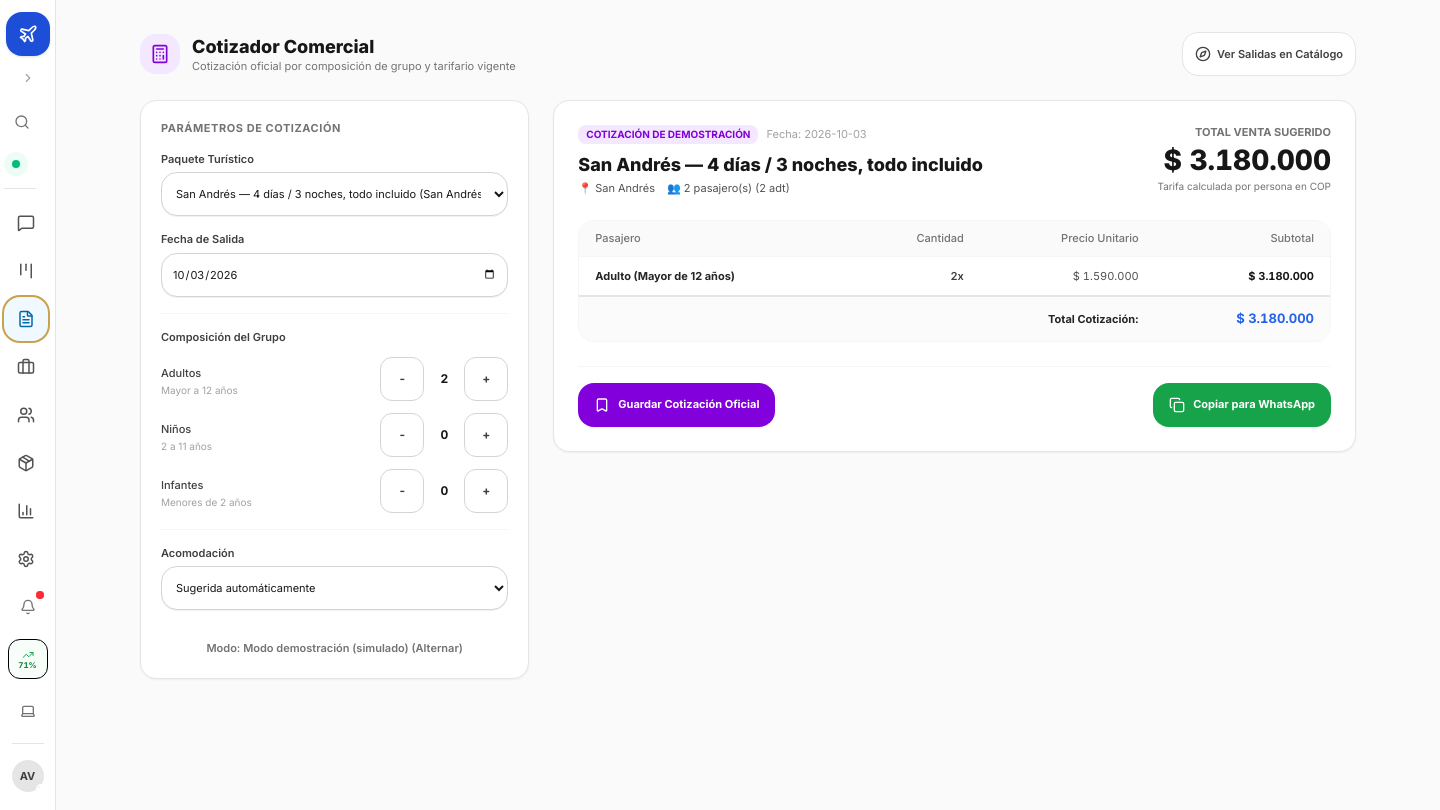
Test case: CotizadorPage — Excursiones de un Día y Estados de UI (Bloque 2) › 5. Caso canónico T-011: 2 adultos + 2 niños en diciembre cotiza $9.100.000 COP con 2 habitaciones dobles
The image size is (1440, 810).
Note: Seleccionar San Andrés y fecha de temporada alta diciembre
Select "San Andrés — 4 días / 3 noches, todo incluido (San Andrés)" in the dropdown labelled "Paquete Turístico" at (335, 194), box [161,172,508,216]
Type "2027-12-24" into the date field labelled "Fecha de Salida" at (335, 275), box [161,253,508,297]
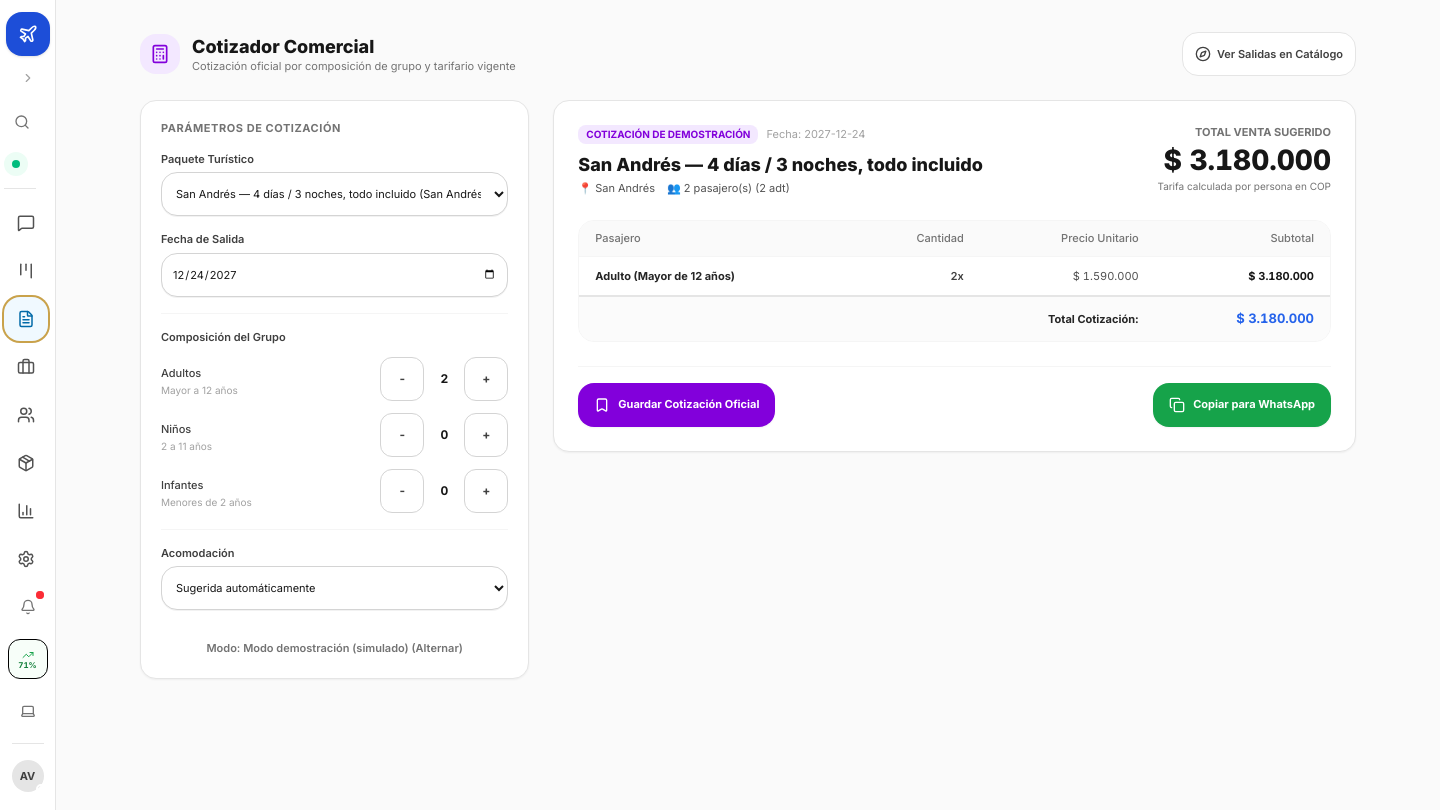
Select "Doble (2 personas)" in the dropdown labelled "Acomodación" at (335, 588), box [161,566,508,610]
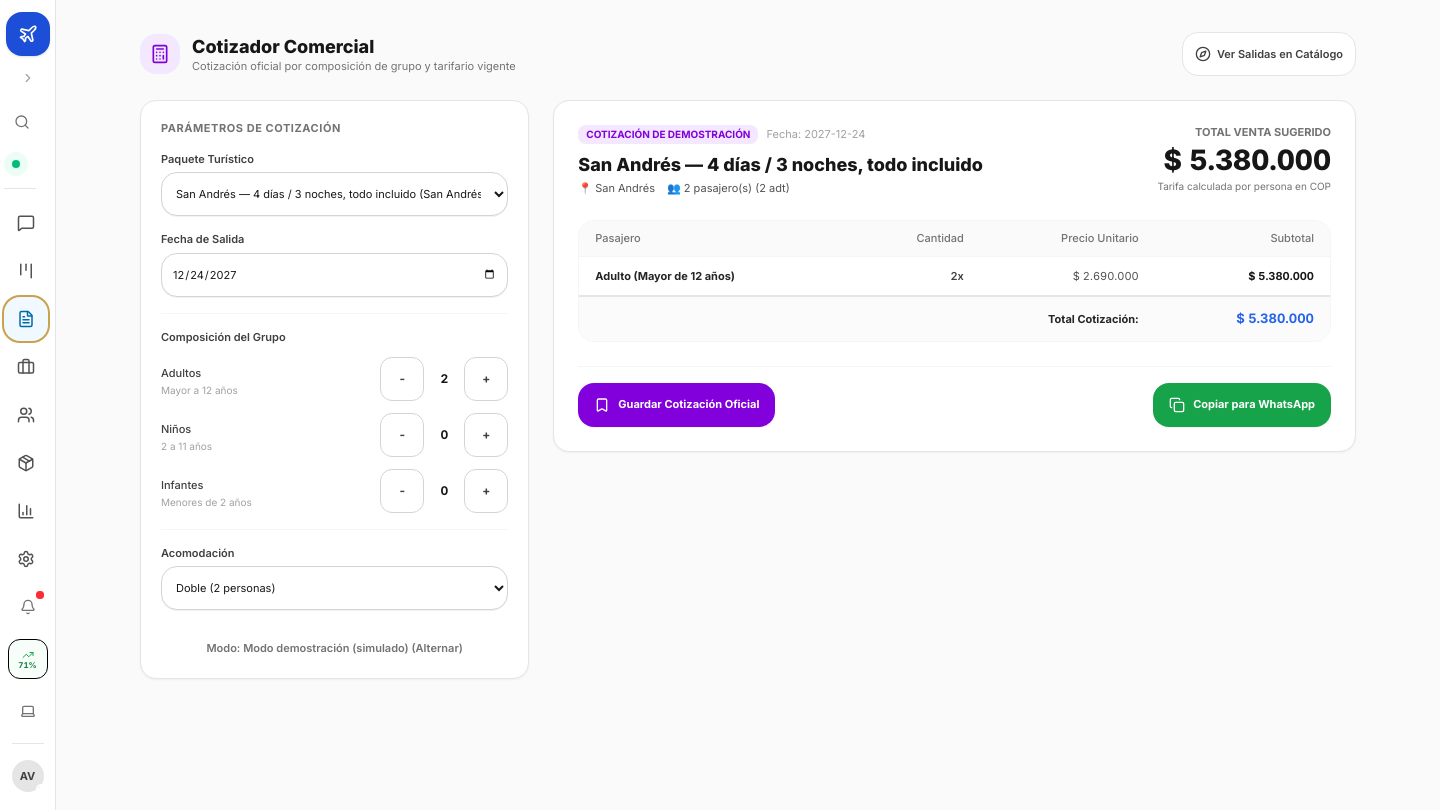
Note: Incrementar a 2 niños (actualmente 0)
Click the button "+" in the row of "2 a 11 años" at (486, 435), box [464,413,508,457]
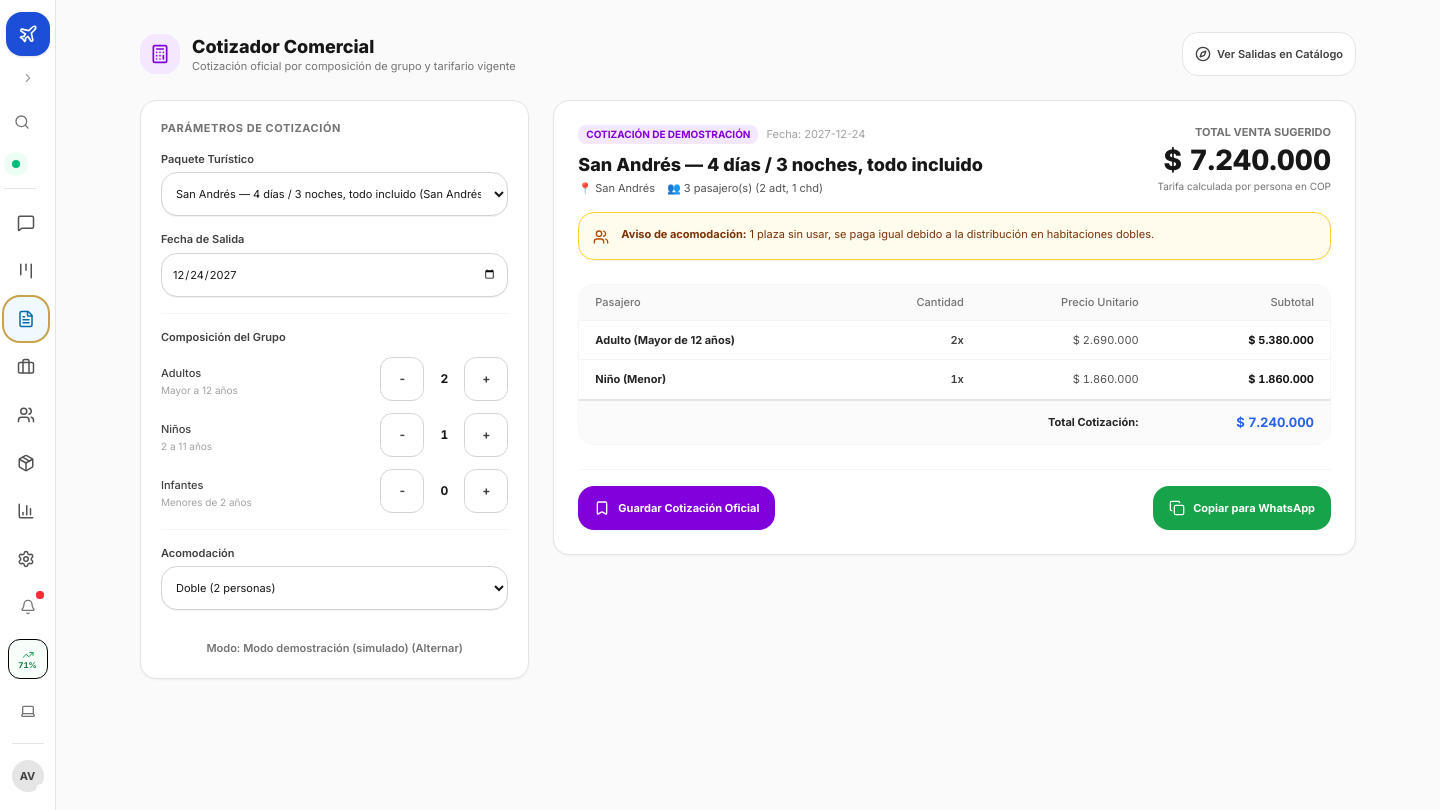
Click the button "+" in the row of "2 a 11 años" at (486, 435), box [464,413,508,457]
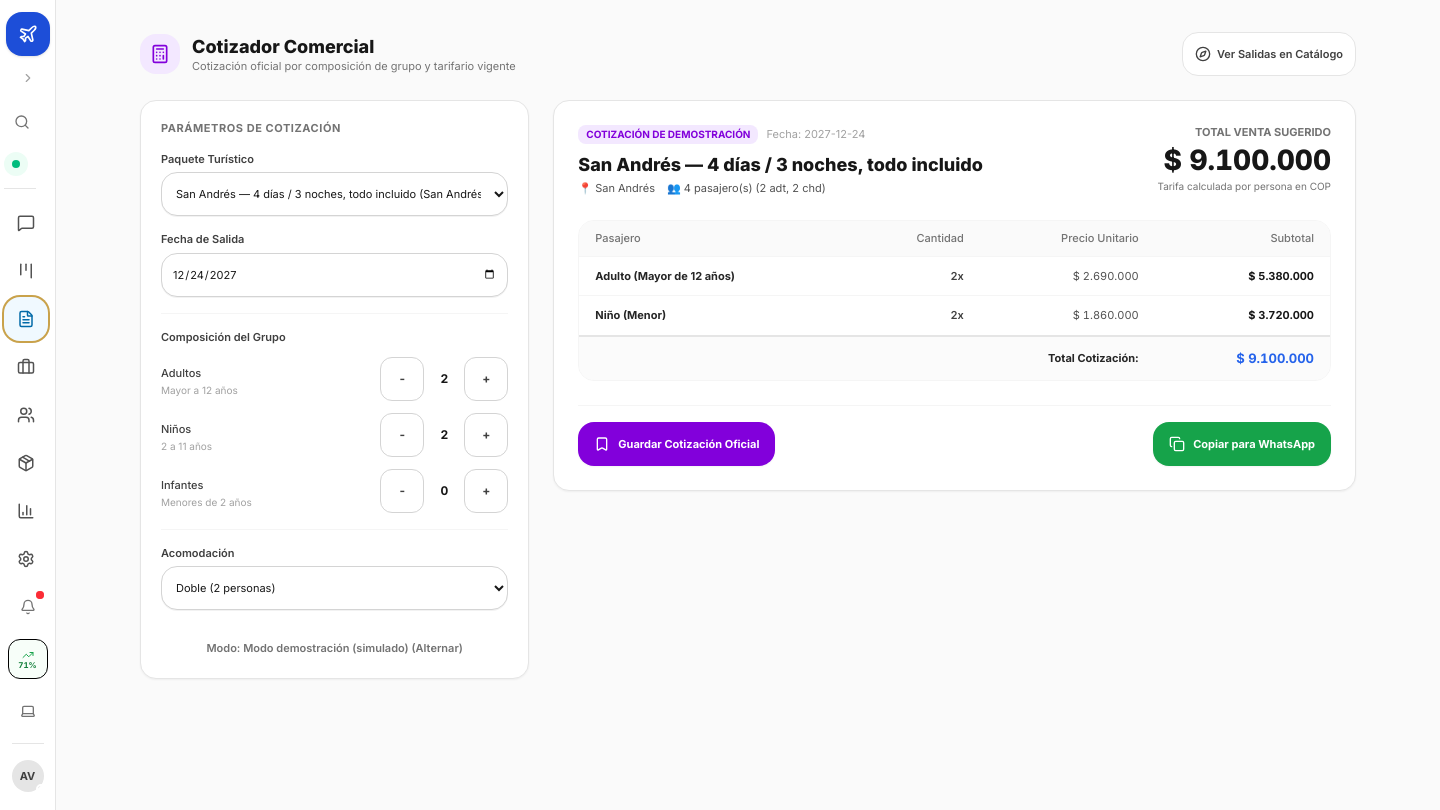
Result: the text "$ 5.380.000" is shown at [1155,256,1330,296]
Result: the text "$ 3.720.000" is shown at [1155,296,1330,336]
Result: the element with test id "aviso-plazas-sin-usar" is gone
